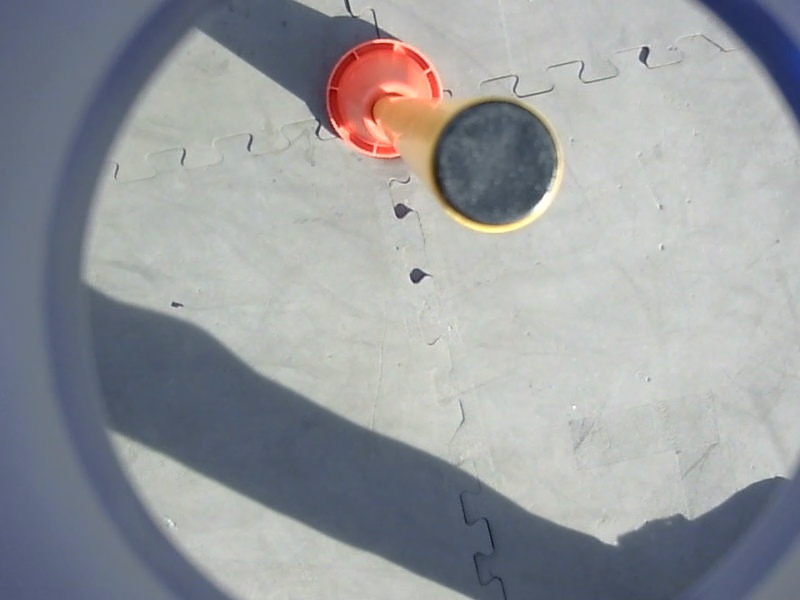tip: (421, 92, 568, 239)
